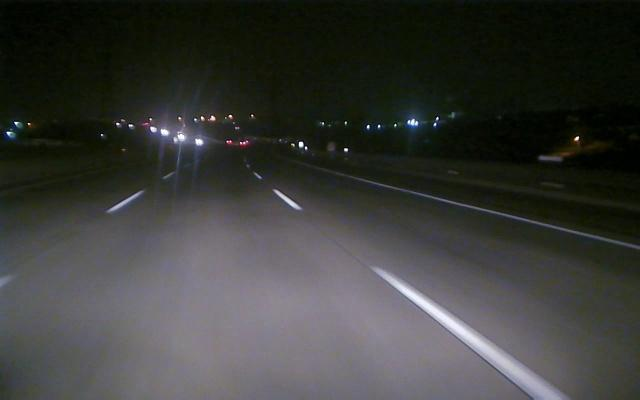lane: (256, 174, 572, 398), (363, 179, 640, 251), (103, 168, 181, 215)
